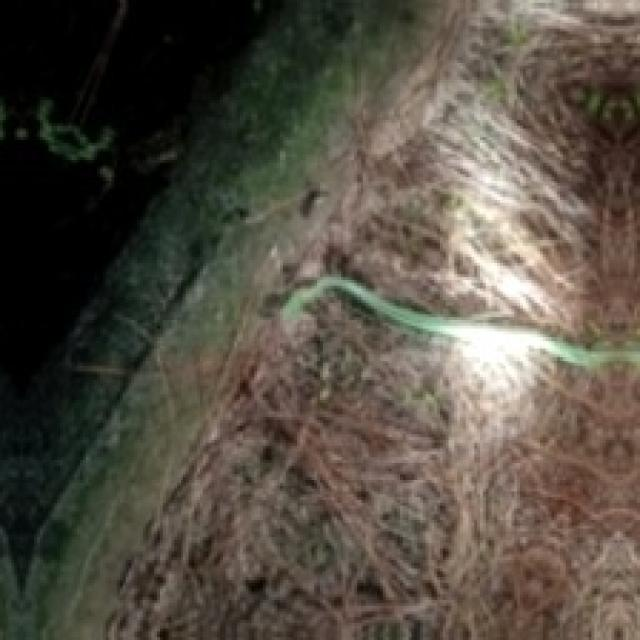north ph temple pitviper: (280, 274, 637, 366)
